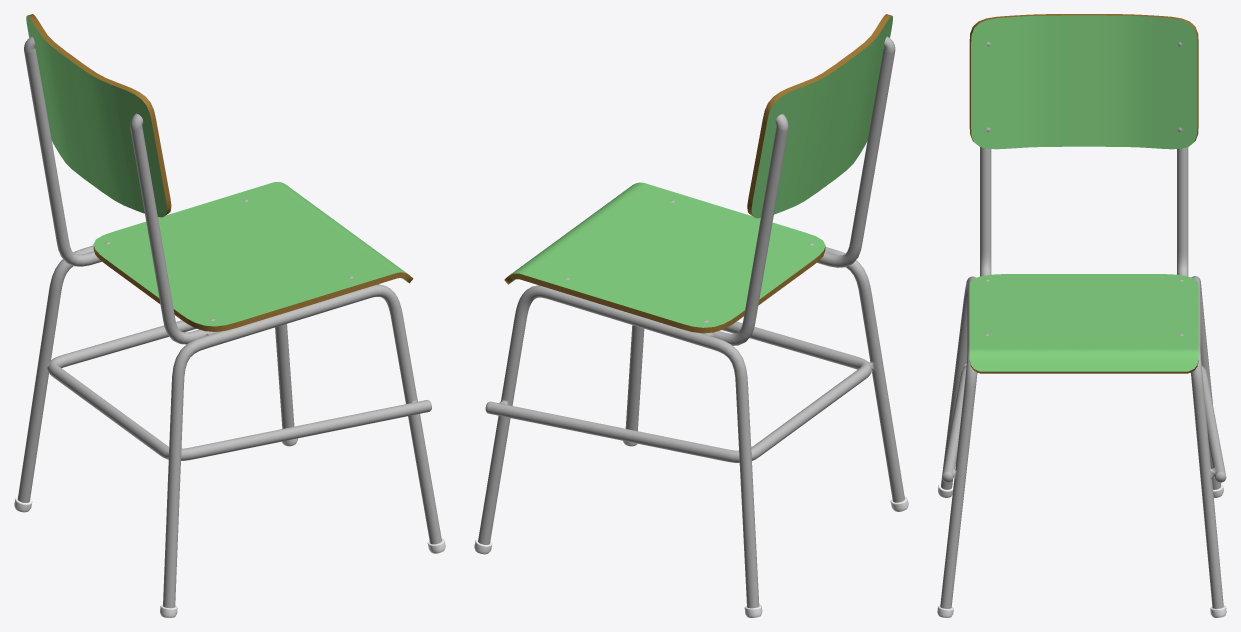
File: kursi.glb
3 renders of one model, left to right at view 1: azimuth 30°, elevation 25°; view 2: azimuth 150°, elevation 25°; view 3: azimuth 270°, elevation 25°, orthographic. The views are drawn at different scales.
Parts seen in each view (by area): view 1: Estructura_6, Asiento_12, Respaldo_13; view 2: Estructura_6, Asiento_12, Respaldo_13; view 3: Respaldo_13, Asiento_12, Estructura_6.
Part boxes in pixels (x1,y1,x2,y2): Estructura_6: (17, 36, 441, 608); Asiento_12: (93, 182, 413, 331); Respaldo_13: (26, 14, 171, 217); Estructura_6: (478, 36, 904, 608); Asiento_12: (504, 182, 825, 333); Respaldo_13: (747, 14, 892, 218); Respaldo_13: (969, 14, 1198, 149); Asiento_12: (969, 274, 1198, 373); Estructura_6: (940, 147, 1226, 608).
Bounding box in the file's own units: 5.61 × 9.12 × 5.05.
